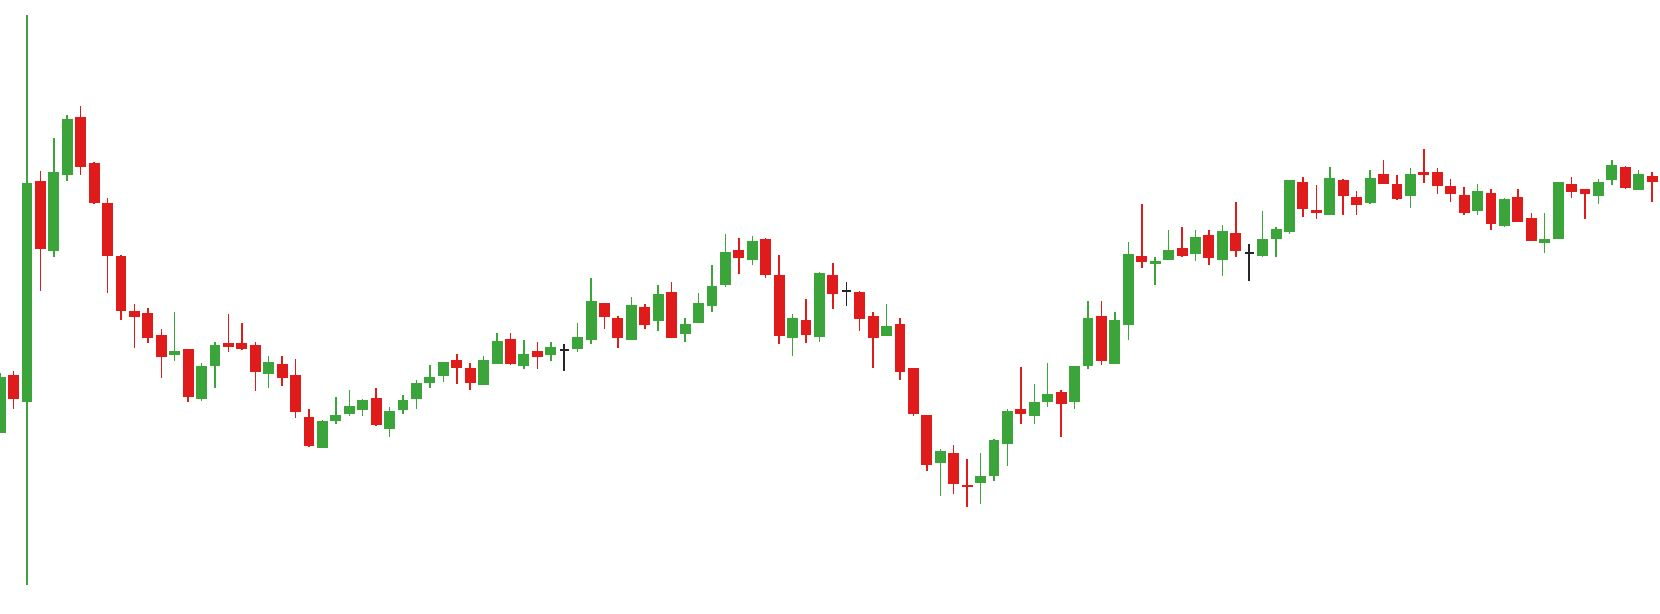sell: (1322, 161, 1405, 207)
